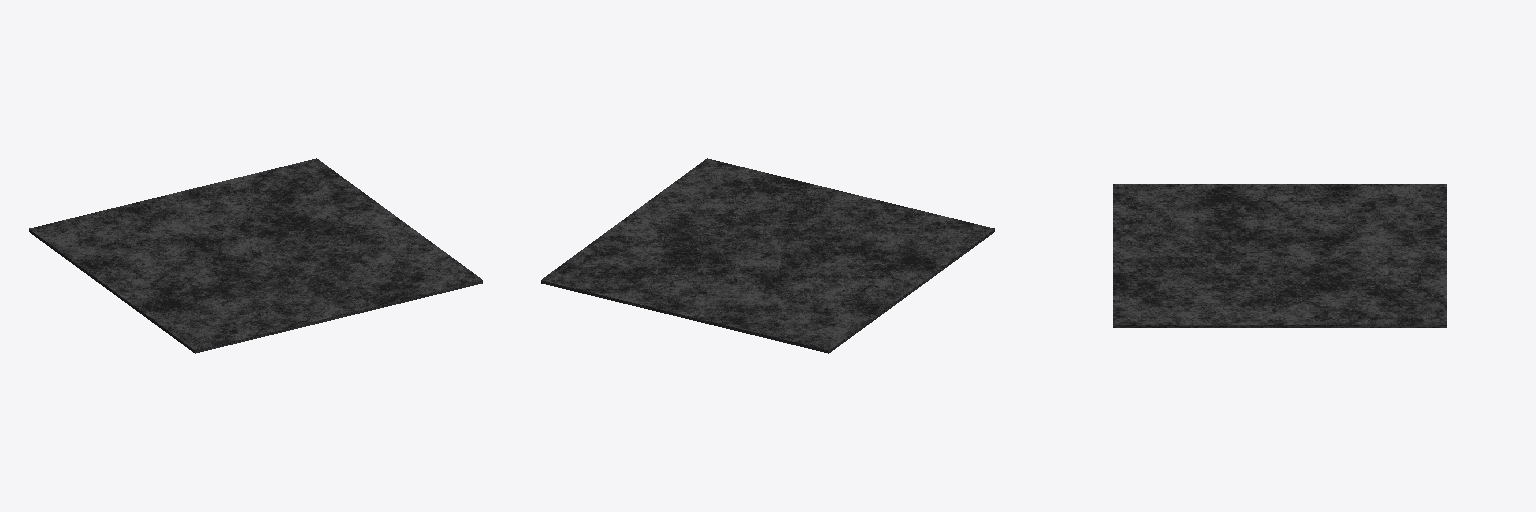
3 views of the same model, side by side, from view 1: azimuth 30°, elevation 25°; view 2: azimuth 150°, elevation 25°; view 3: azimuth 270°, elevation 25° (orthographic).
Visible parts, largest first — view 1: Cube; view 2: Cube; view 3: Cube.
Part boxes in pixels (x1,y1,x2,y2): Cube: (29,158,482,353); Cube: (541,158,994,353); Cube: (1113,184,1446,327).
Bounding box in the file's own units: 200 × 2 × 200.
Materials: 1 (1 with a texture image).